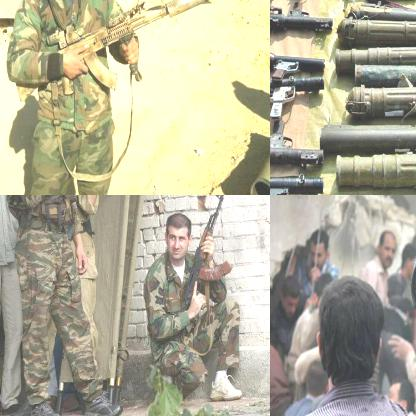rifle: (14, 0, 215, 102), (179, 195, 240, 323)
